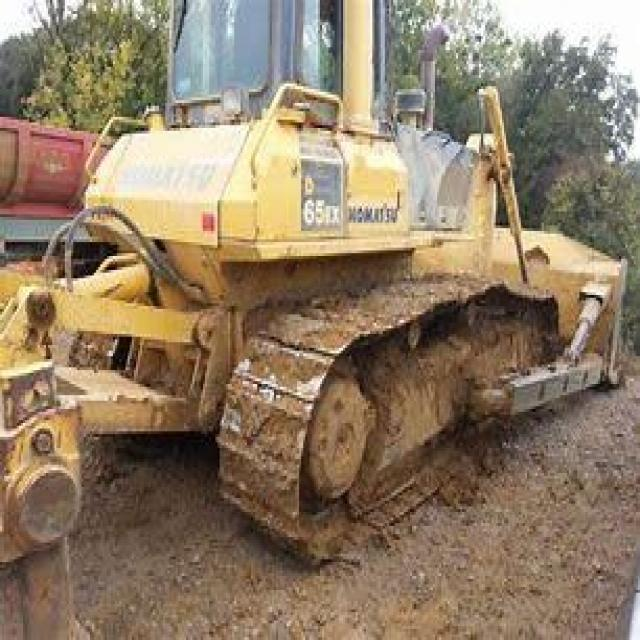Bulldozer: (0, 0, 638, 604)
